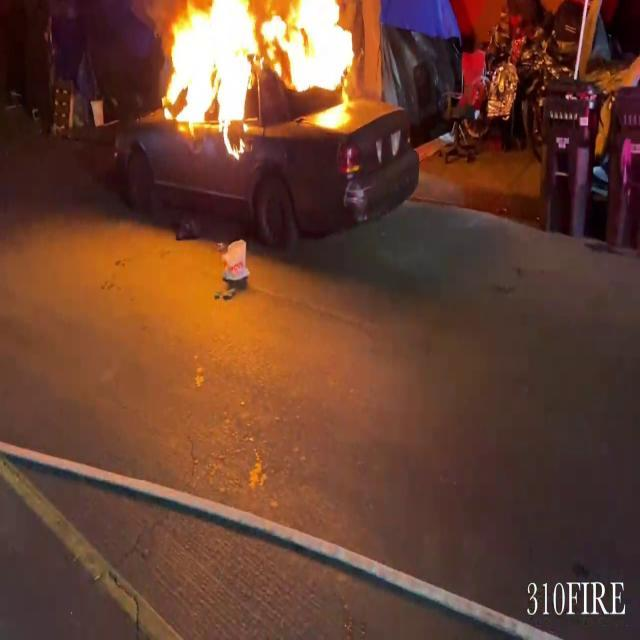Fire: (156, 0, 364, 136)
